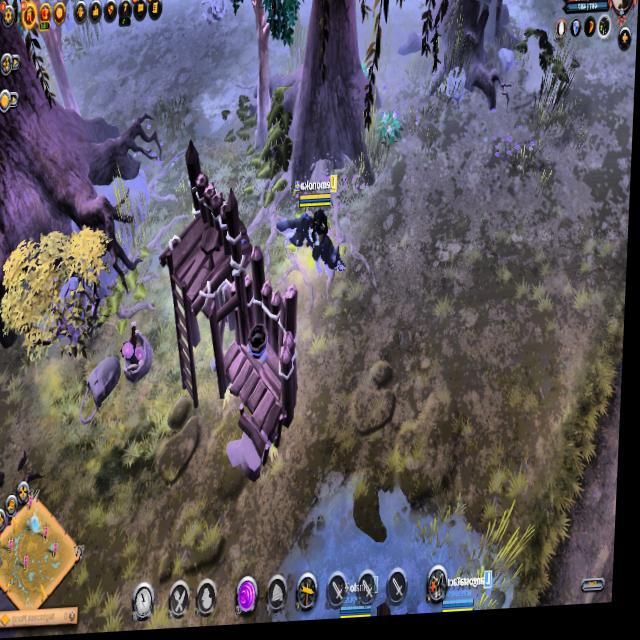fiber tier 3: (375, 111, 406, 157)
